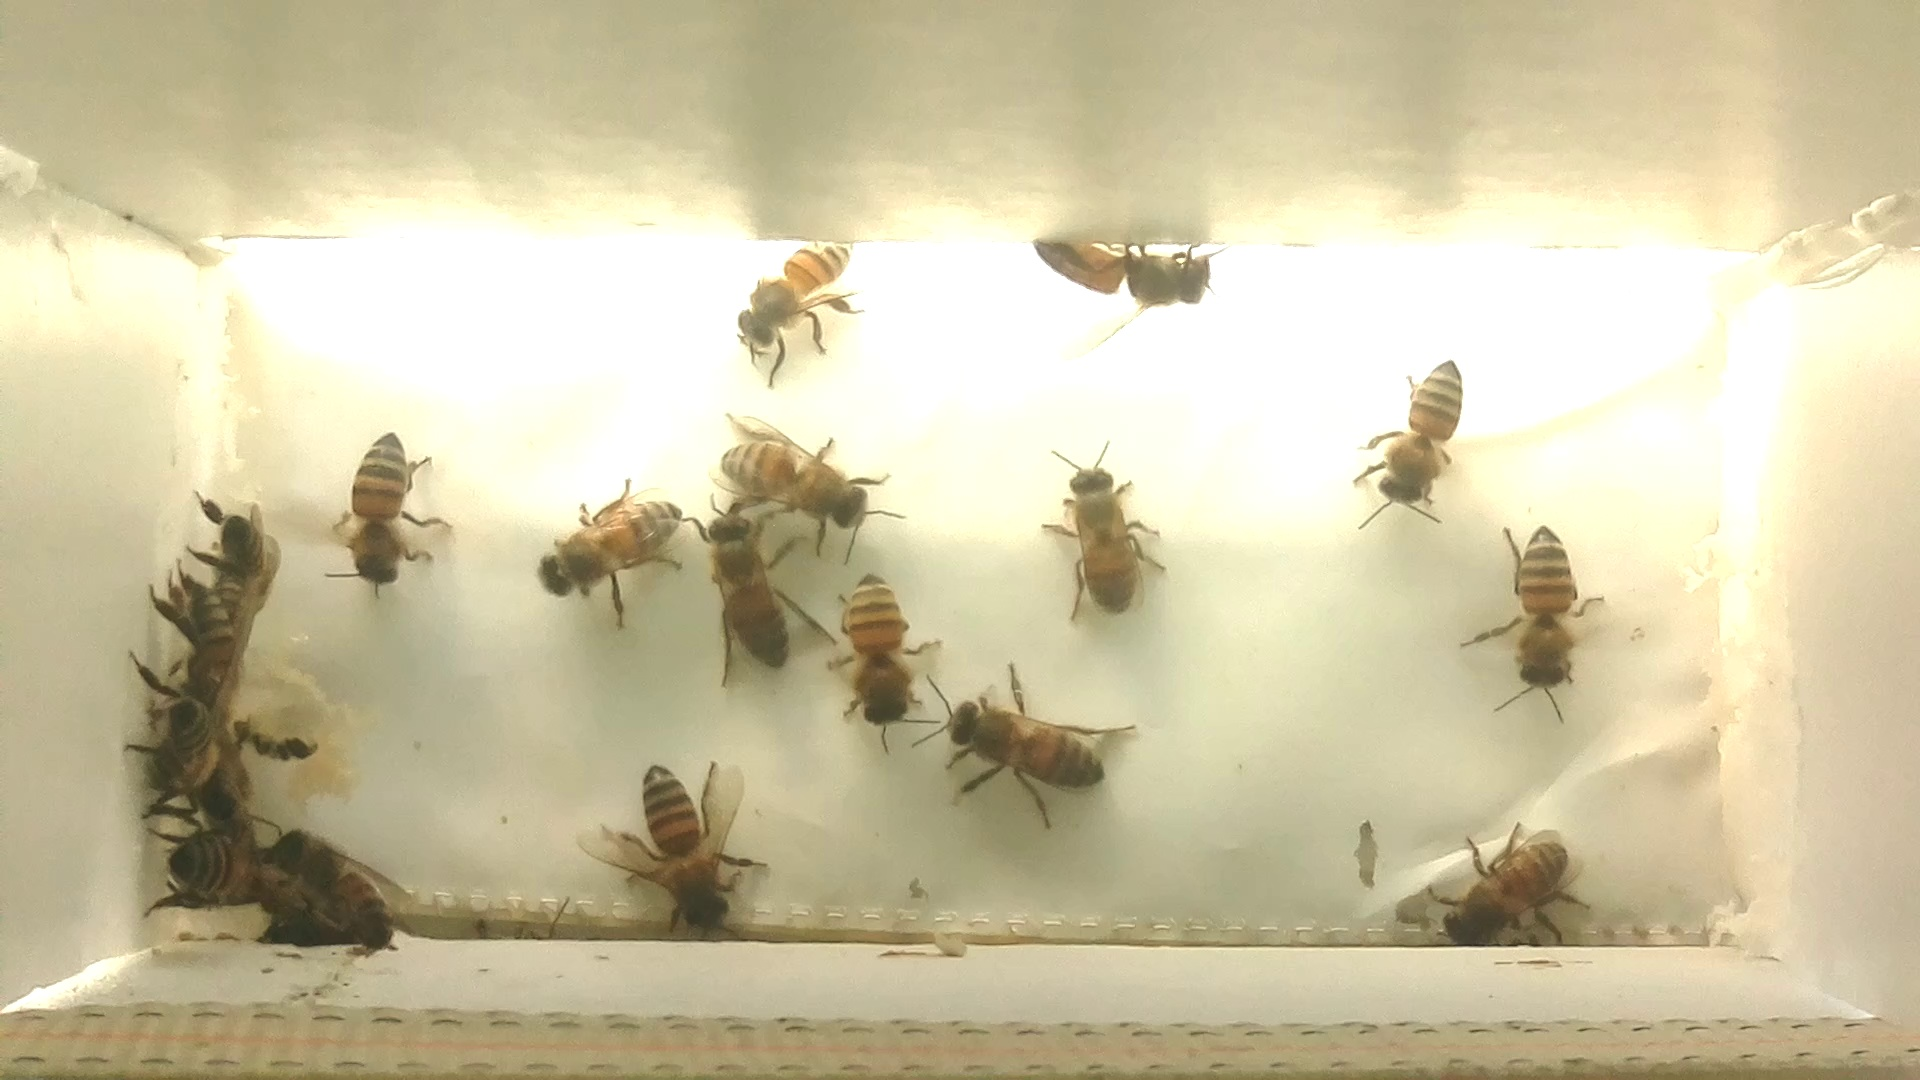bee: (905, 644, 1149, 820), (578, 750, 789, 953), (696, 400, 931, 558), (1455, 512, 1619, 731), (298, 410, 463, 613), (711, 219, 893, 393), (678, 498, 841, 688), (1337, 335, 1486, 543), (1019, 440, 1182, 632), (1411, 814, 1607, 960), (1021, 222, 1233, 353), (808, 560, 945, 758), (524, 484, 708, 629), (258, 811, 415, 959), (128, 574, 258, 731), (135, 691, 261, 820), (175, 495, 295, 621), (132, 814, 257, 916)
